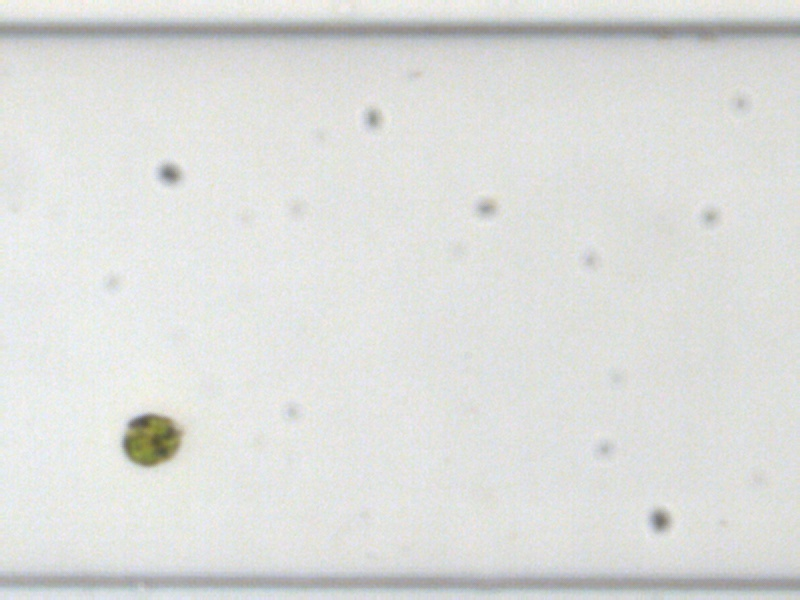Haematococcus: (119, 409, 182, 471)
